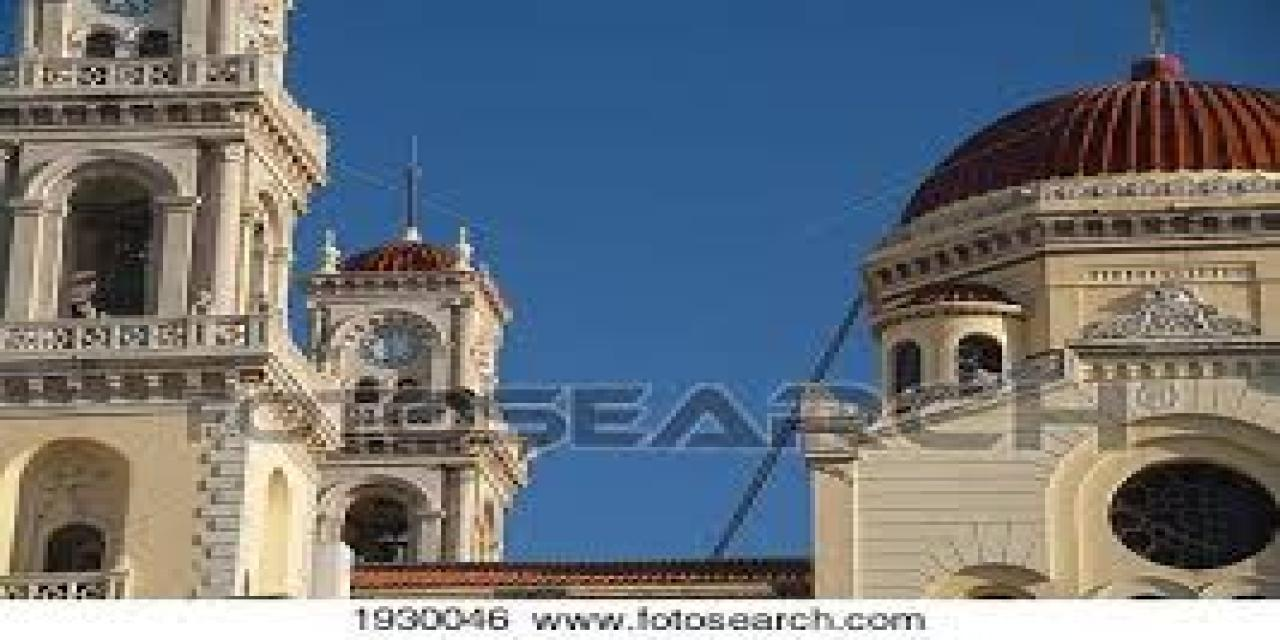Agios Minas: (5, 3, 1280, 600)
